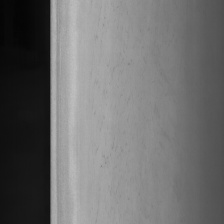silk_spot: (92, 14, 157, 186)
